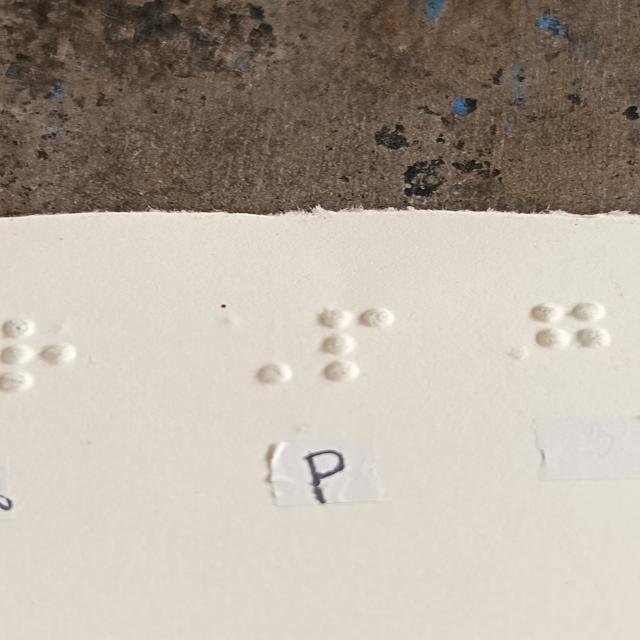capital_sign: (223, 308, 295, 386)
letter_P: (320, 306, 393, 385)
